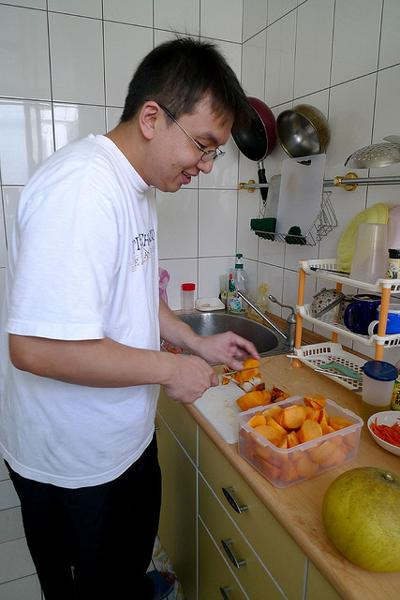person: (2, 37, 260, 600)
